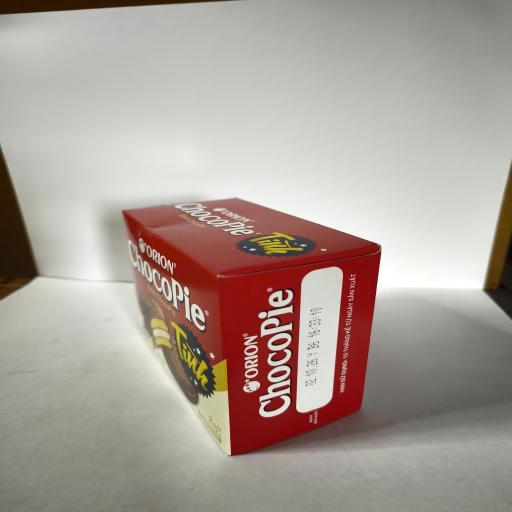chocopie: (121, 198, 382, 456)
